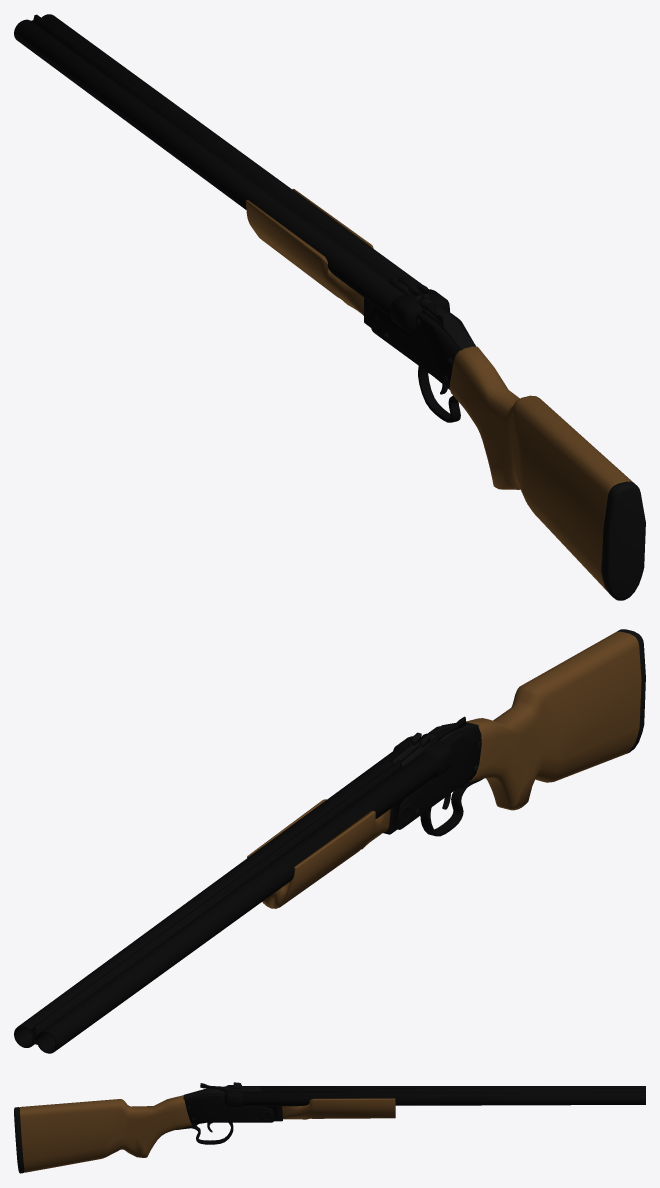
3 views of the same model, one above another, from view 1: azimuth 30°, elevation 25°; view 2: azimuth 150°, elevation 25°; view 3: azimuth 270°, elevation 25° (orthographic). The views are drawn at different scales.
Parts seen in each view (by area): view 1: Cube (×3); view 2: Cube (×3); view 3: Cube (×3).
Part boxes in pixels (x1,y1,x2,y2): Cube (×3): (14,14,645,600); Cube (×3): (14,629,645,1053); Cube (×3): (14,1082,645,1173).
Size of the model in its own units: 0.1648 by 0.5039 by 3.26.
